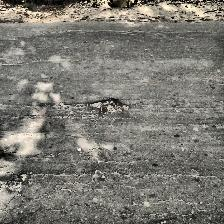pothole: (88, 96, 130, 114)
